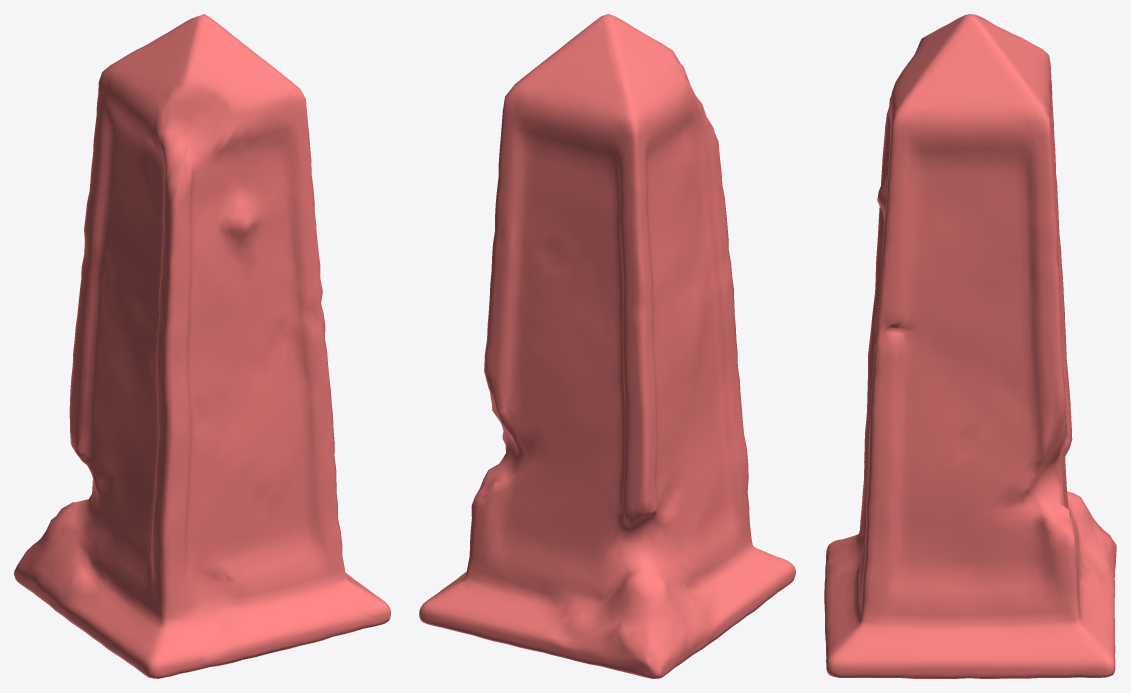
File: PILLAR05.fbx
The picture shows the model from 3 angles, left to right: view 1: azimuth 30°, elevation 25°; view 2: azimuth 150°, elevation 25°; view 3: azimuth 270°, elevation 25°; orthographic projection. The views are drawn at different scales.
Visible parts, largest first — view 1: pCube8; view 2: pCube8; view 3: pCube8.
Boxes of the visible parts, left/top/right/bottom form: pCube8: left=14, top=14, right=390, bottom=678; pCube8: left=419, top=14, right=795, bottom=678; pCube8: left=824, top=14, right=1116, bottom=678.
Bounding box in the file's own units: 2.66 × 6.1 × 2.68.
